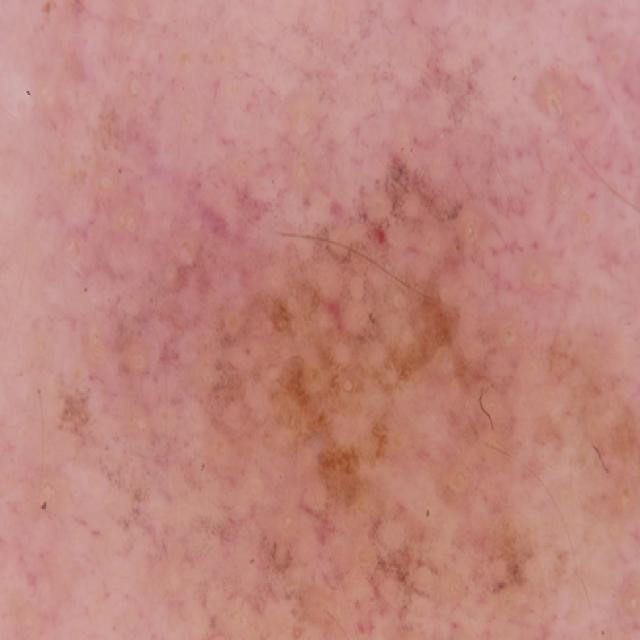Keratosis: (255, 90, 535, 501), (311, 345, 639, 640), (98, 207, 339, 552)
